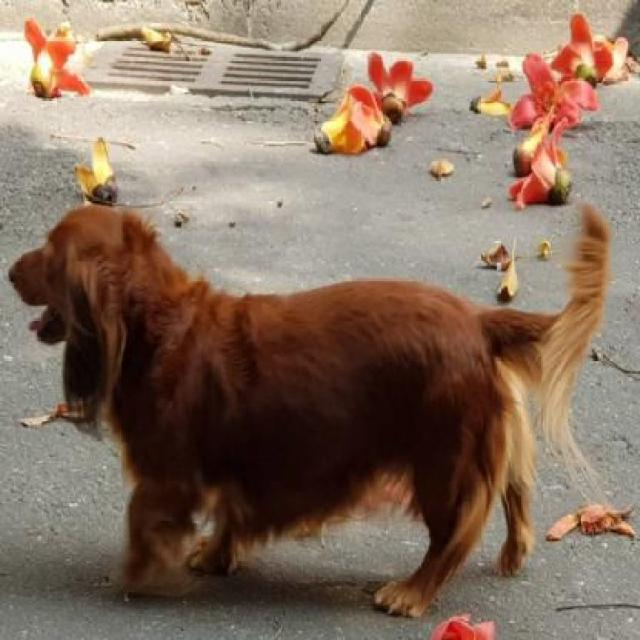Dog: (8, 192, 614, 626)
